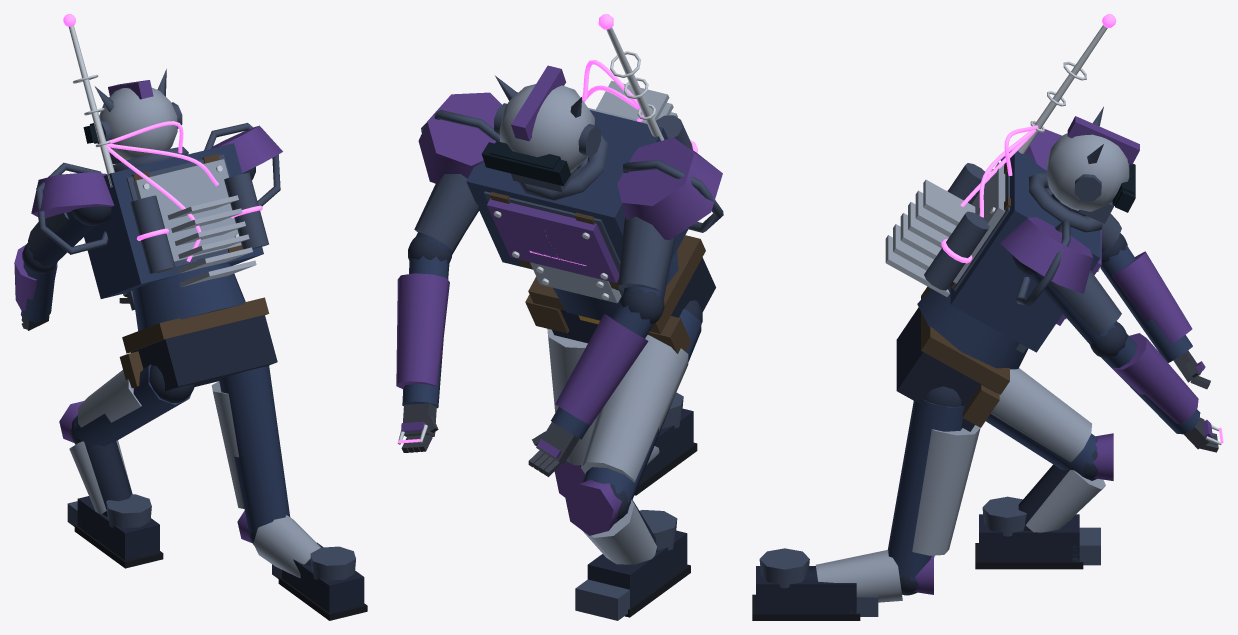
Rendered from hero_tempest_revive.glb.
The picture shows the model from 3 angles, left to right: view 1: azimuth 30°, elevation 25°; view 2: azimuth 150°, elevation 25°; view 3: azimuth 270°, elevation 25°; orthographic projection. The views are drawn at different scales.
Visible parts, largest first — view 1: hero_tempest_revive_thigh_r, hero_tempest_revive_chest, hero_tempest_revive_pelvis, hero_tempest_revive_back_plate_face, hero_tempest_revive_abdomen, hero_tempest_revive_helmet, hero_tempest_revive_spine_fins, hero_tempest_revive_thigh_l, hero_tempest_revive_pauldron-1, hero_tempest_revive_boot_l, hero_tempest_revive_belt, hero_tempest_revive_greave_r (+26 smaller); view 2: hero_tempest_revive_thigh_plate_l, hero_tempest_revive_chest, hero_tempest_revive_pauldron-1, hero_tempest_revive_chest_plate_face, hero_tempest_revive_bracer_r, hero_tempest_revive_bracer_l, hero_tempest_revive_pauldron1, hero_tempest_revive_helmet, hero_tempest_revive_boot_l, hero_tempest_revive_bicep_plate_l, hero_tempest_revive_bicep_plate_r, hero_tempest_revive_greave_l (+34 smaller); view 3: hero_tempest_revive_chest, hero_tempest_revive_thigh_plate_r, hero_tempest_revive_thigh_r, hero_tempest_revive_thigh_plate_l, hero_tempest_revive_spine_fins, hero_tempest_revive_helmet, hero_tempest_revive_abdomen, hero_tempest_revive_pauldron1, hero_tempest_revive_pelvis, hero_tempest_revive_bracer_r, hero_tempest_revive_boot_l, hero_tempest_revive_boot_r (+27 smaller).
Part boxes in pixels (x1,y1,x2,y2): hero_tempest_revive_thigh_r: [219, 365, 290, 536]; hero_tempest_revive_chest: [84, 143, 263, 298]; hero_tempest_revive_pelvis: [131, 315, 277, 391]; hero_tempest_revive_back_plate_face: [133, 159, 241, 261]; hero_tempest_revive_abdomen: [132, 258, 245, 330]; hero_tempest_revive_helmet: [99, 88, 177, 160]; hero_tempest_revive_spine_fins: [167, 195, 256, 287]; hero_tempest_revive_thigh_l: [73, 364, 191, 446]; hero_tempest_revive_pauldron-1: [31, 172, 114, 218]; hero_tempest_revive_boot_l: [77, 496, 159, 560]; hero_tempest_revive_belt: [122, 297, 269, 353]; hero_tempest_revive_greave_r: [253, 515, 320, 577]; hero_tempest_revive_thigh_plate_l: [580, 335, 688, 482]; hero_tempest_revive_chest: [466, 92, 688, 291]; hero_tempest_revive_pauldron-1: [617, 137, 722, 239]; hero_tempest_revive_chest_plate_face: [487, 198, 619, 282]; hero_tempest_revive_bracer_r: [396, 273, 449, 388]; hero_tempest_revive_bracer_l: [555, 314, 648, 425]; hero_tempest_revive_pauldron1: [418, 92, 501, 183]; hero_tempest_revive_helmet: [499, 84, 594, 172]; hero_tempest_revive_boot_l: [587, 530, 687, 607]; hero_tempest_revive_bicep_plate_l: [618, 216, 675, 293]; hero_tempest_revive_bicep_plate_r: [414, 174, 479, 250]; hero_tempest_revive_greave_l: [582, 500, 656, 564]; hero_tempest_revive_chest: [950, 151, 1100, 352]; hero_tempest_revive_thigh_plate_r: [912, 425, 980, 555]; hero_tempest_revive_thigh_r: [887, 399, 964, 581]; hero_tempest_revive_thigh_plate_l: [991, 368, 1091, 462]; hero_tempest_revive_spine_fins: [885, 179, 975, 296]; hero_tempest_revive_helmet: [1047, 133, 1129, 211]; hero_tempest_revive_abdomen: [917, 285, 1028, 369]; hero_tempest_revive_pauldron1: [1000, 217, 1093, 293]; hero_tempest_revive_pelvis: [896, 307, 996, 431]; hero_tempest_revive_bracer_r: [1112, 333, 1198, 423]; hero_tempest_revive_boot_l: [979, 514, 1079, 561]; hero_tempest_revive_boot_r: [756, 566, 856, 613].
Size of the model in its own units: 0.8368 by 1.65 by 1.31.
